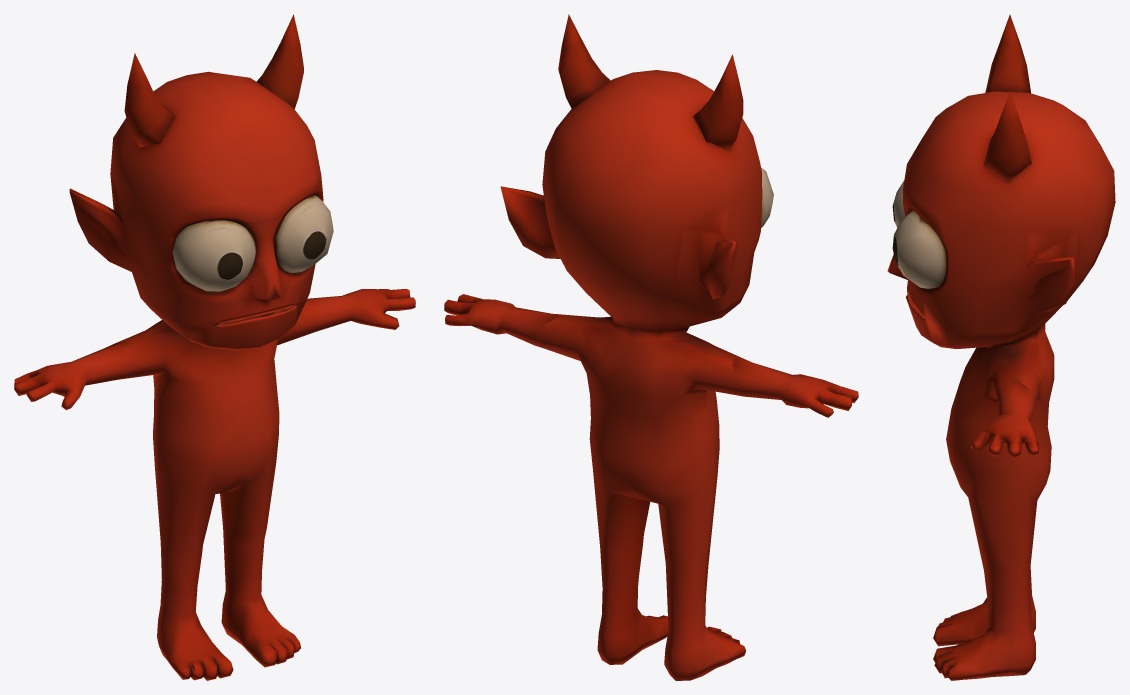
File: selected.fbx
The picture shows the model from 3 angles, left to right: view 1: azimuth 30°, elevation 25°; view 2: azimuth 150°, elevation 25°; view 3: azimuth 270°, elevation 25°; orthographic projection. The views are drawn at different scales.
Parts seen in each view (by area): view 1: tripo_node_d4a22c0f-b4eb-43c8-9cae-52d147235c9f; view 2: tripo_node_d4a22c0f-b4eb-43c8-9cae-52d147235c9f; view 3: tripo_node_d4a22c0f-b4eb-43c8-9cae-52d147235c9f.
Part boxes in pixels (<box>): tripo_node_d4a22c0f-b4eb-43c8-9cae-52d147235c9f: <box>14,14,415,680</box>; tripo_node_d4a22c0f-b4eb-43c8-9cae-52d147235c9f: <box>444,14,858,680</box>; tripo_node_d4a22c0f-b4eb-43c8-9cae-52d147235c9f: <box>887,14,1115,680</box>.
Bounding box in the file's own units: 67.38 × 99.8 × 34.18.
Materials: 1 (1 with a texture image).
